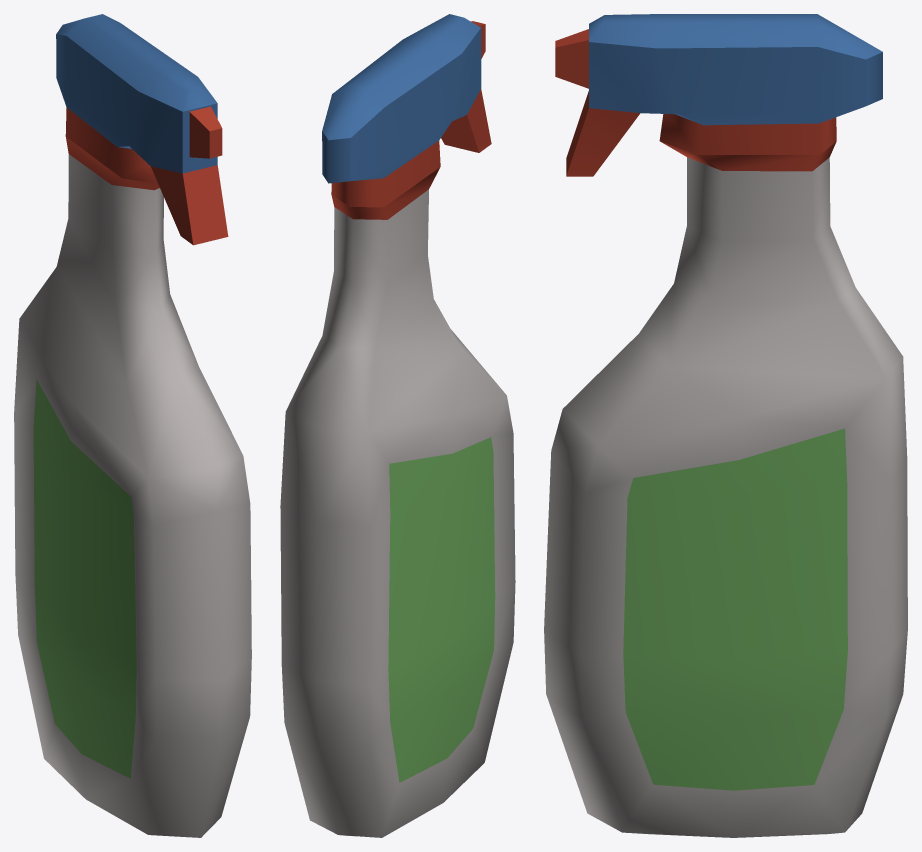
Rendered from SM_Prop_SprayBottle_01.obj.
The picture shows the model from 3 angles, left to right: view 1: azimuth 30°, elevation 25°; view 2: azimuth 150°, elevation 25°; view 3: azimuth 270°, elevation 25°; orthographic projection. The views are drawn at different scales.
Parts seen in each view (by area): view 1: SM_Prop_SprayBottle_01_Mat_SwatchOverlay_PolygonOffice_01_Inst; view 2: SM_Prop_SprayBottle_01_Mat_SwatchOverlay_PolygonOffice_01_Inst; view 3: SM_Prop_SprayBottle_01_Mat_SwatchOverlay_PolygonOffice_01_Inst.
Part boxes in pixels (x1,y1,x2,y2): SM_Prop_SprayBottle_01_Mat_SwatchOverlay_PolygonOffice_01_Inst: [14, 14, 251, 837]; SM_Prop_SprayBottle_01_Mat_SwatchOverlay_PolygonOffice_01_Inst: [280, 14, 515, 837]; SM_Prop_SprayBottle_01_Mat_SwatchOverlay_PolygonOffice_01_Inst: [544, 14, 907, 837].
Bounding box in the file's own units: 0.0452 × 0.2693 × 0.1105.
1 material, 1 textured.
